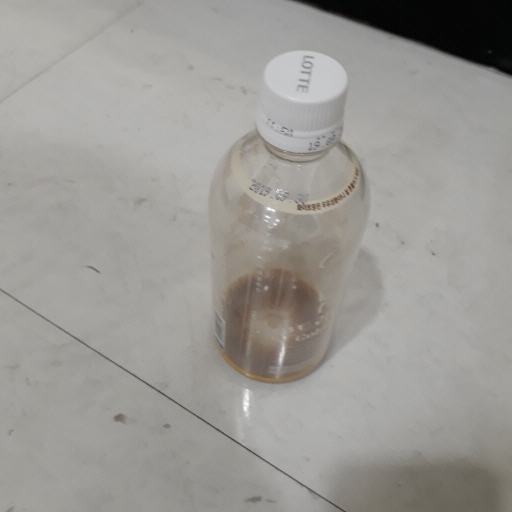Plastic_0: (207, 48, 370, 385)
